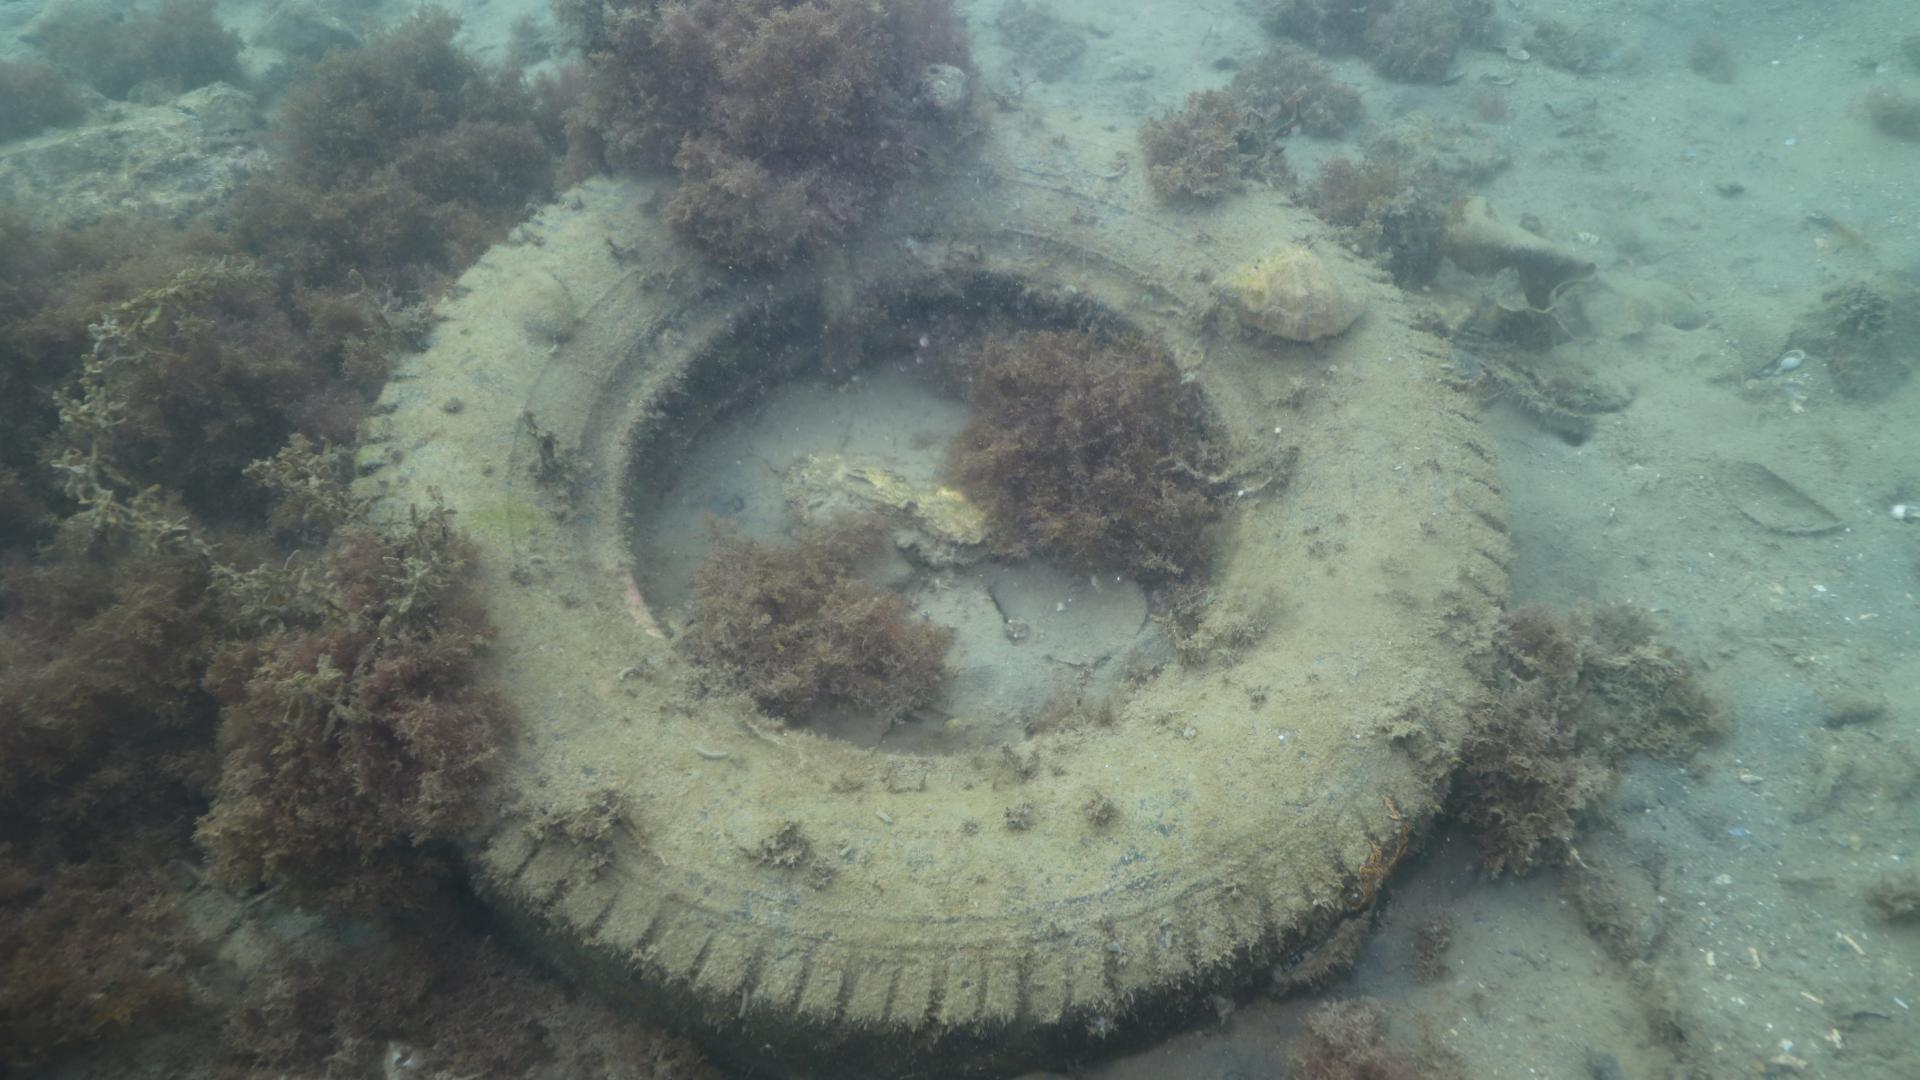tire: (345, 109, 1513, 1079)
